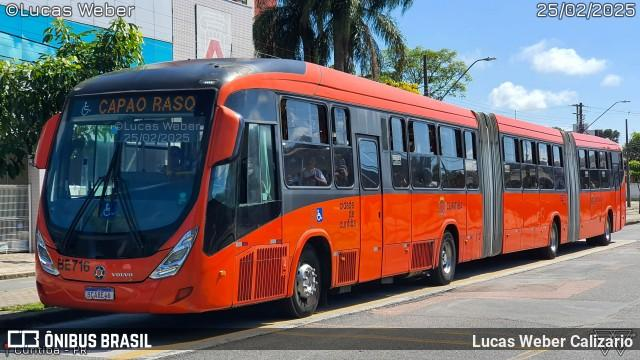CAPAO RASO: (93, 90, 204, 118)
